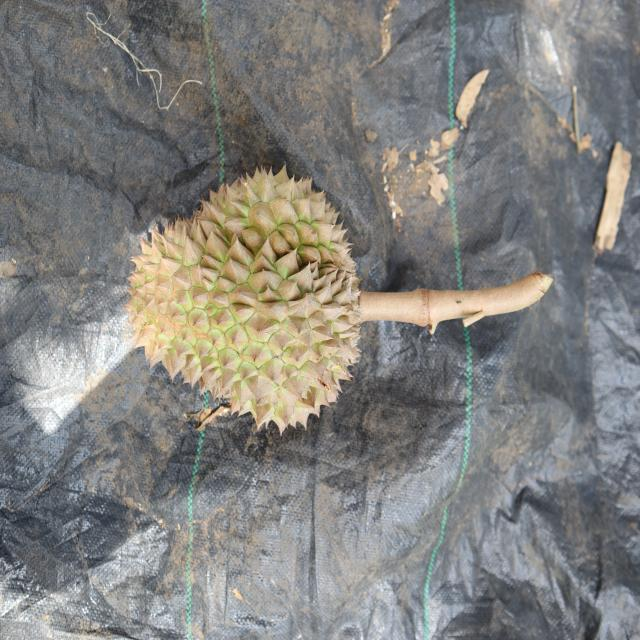mature: (125, 162, 365, 436)
